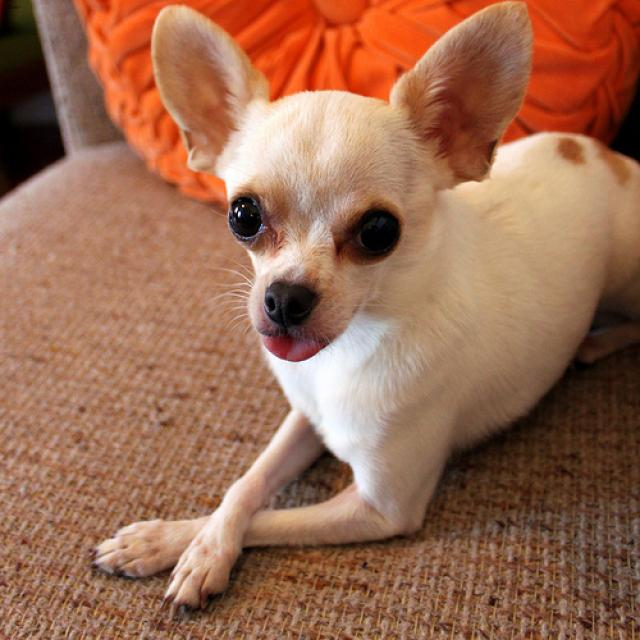dog-chihuahua: (78, 1, 637, 625)
